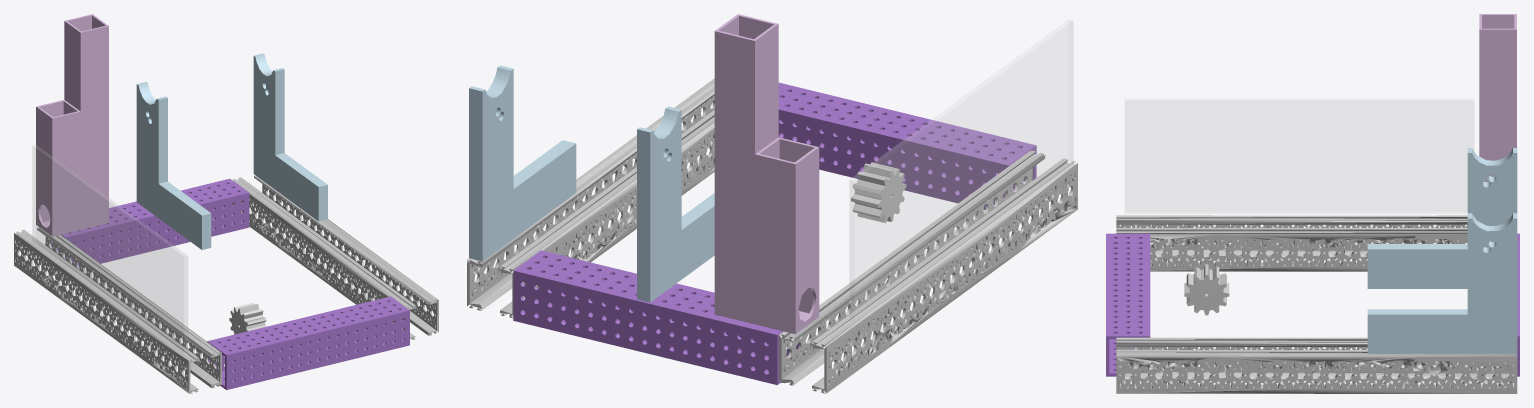
Rendered from Chassis.dae.
3 renders of one model, left to right at view 1: azimuth 30°, elevation 25°; view 2: azimuth 150°, elevation 25°; view 3: azimuth 270°, elevation 25°, orthographic. The views are drawn at different scales.
Visible parts, largest first — view 1: Object.275; view 2: Object.275; view 3: Object.275.
Part boxes in pixels (x1,y1,x2,y2): Object.275: [14, 14, 438, 393]; Object.275: [467, 14, 1077, 393]; Object.275: [1106, 14, 1519, 393].
Size of the model in its own units: 0.3385 by 0.421 by 0.302.
